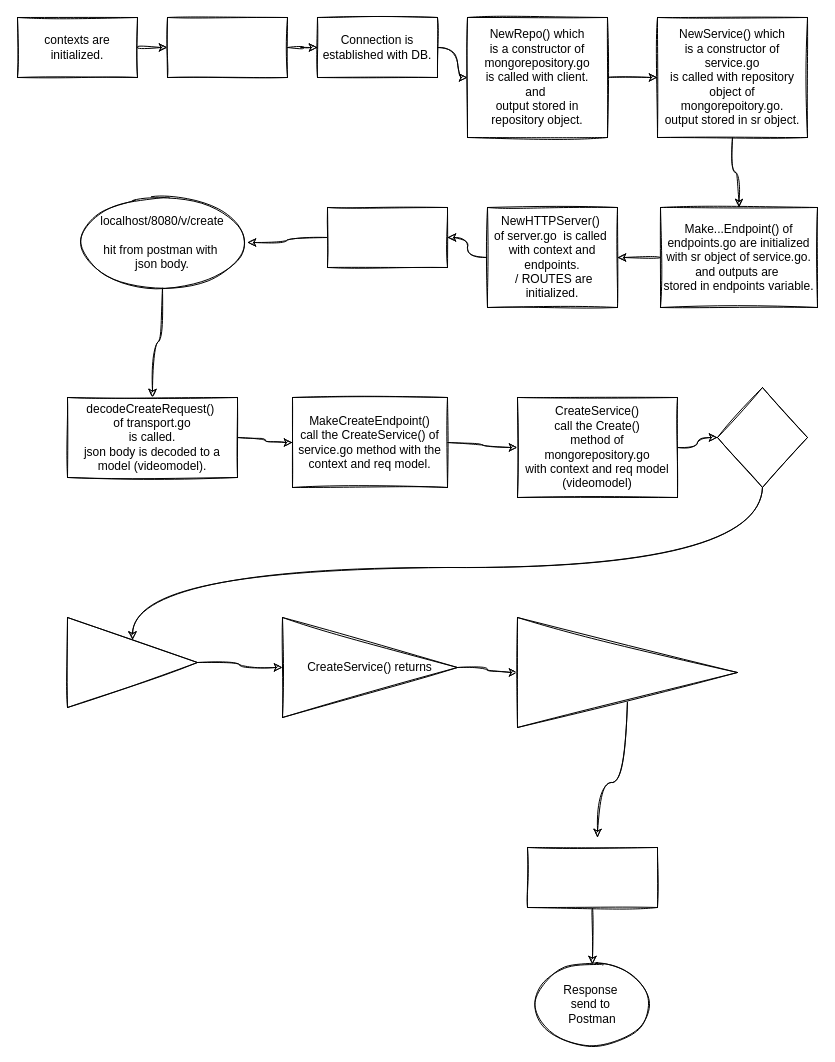
Image size: 835x1062. Some labels were removed from this diagram. Each missing label, with the centre of its shape:
Create() returns: pixel 132 662
DATABASE operation: pixel 762 437
encodeResponse() of transport.go is called.: pixel 592 877
ListenAndServe() is called. Server is online.: pixel 387 237
MakeCreateEndpoint() returns: pixel 627 672
MongoDB NewClient() is called.: pixel 227 47
